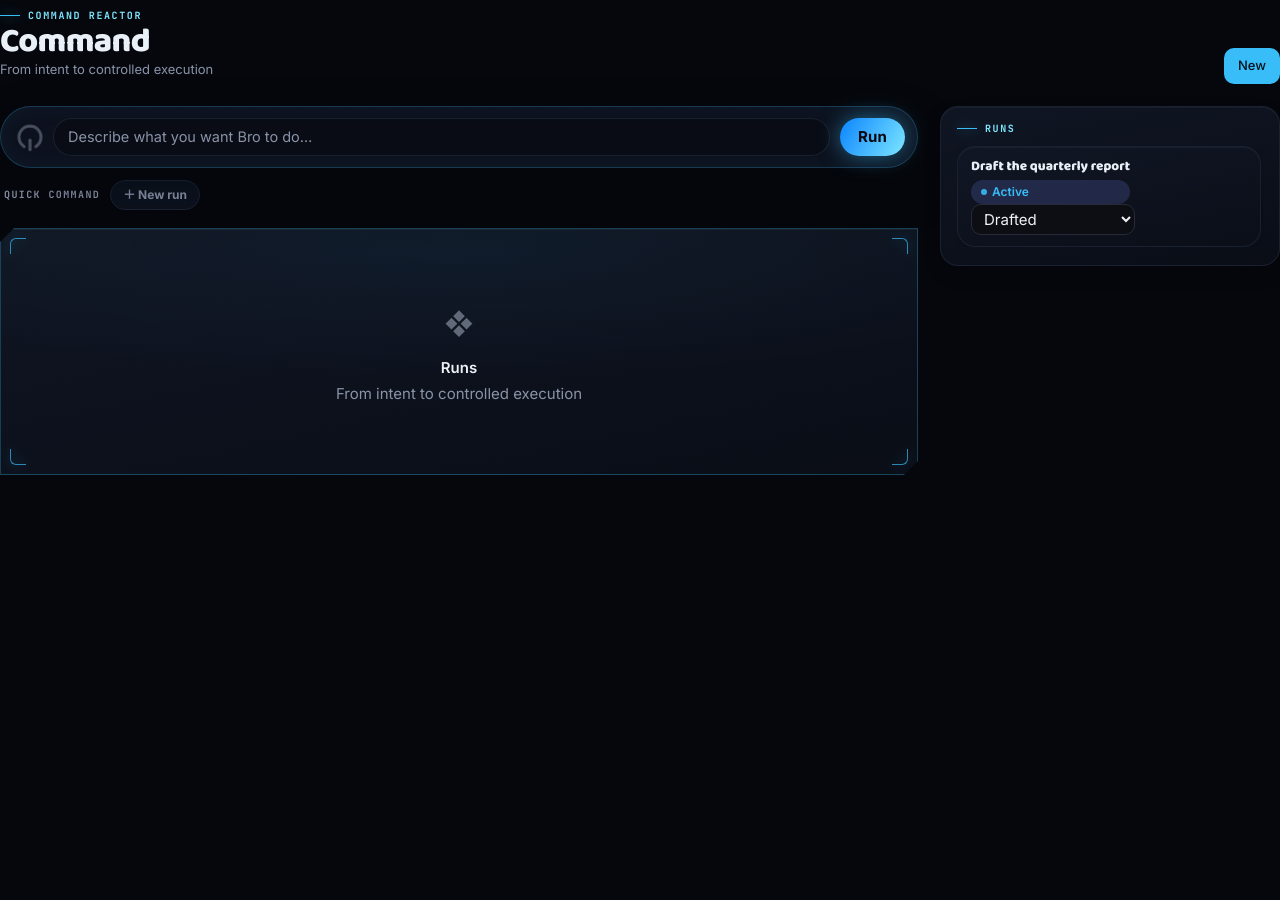
Scenario: Command — real run ledger + step chain (never fabricated) › selecting a run loads and shows its REAL step chain from list_run_steps
Click the button "Draft the quarterly report Active" at (1051, 181), box [971,158,1130,204]
(page scrolled)
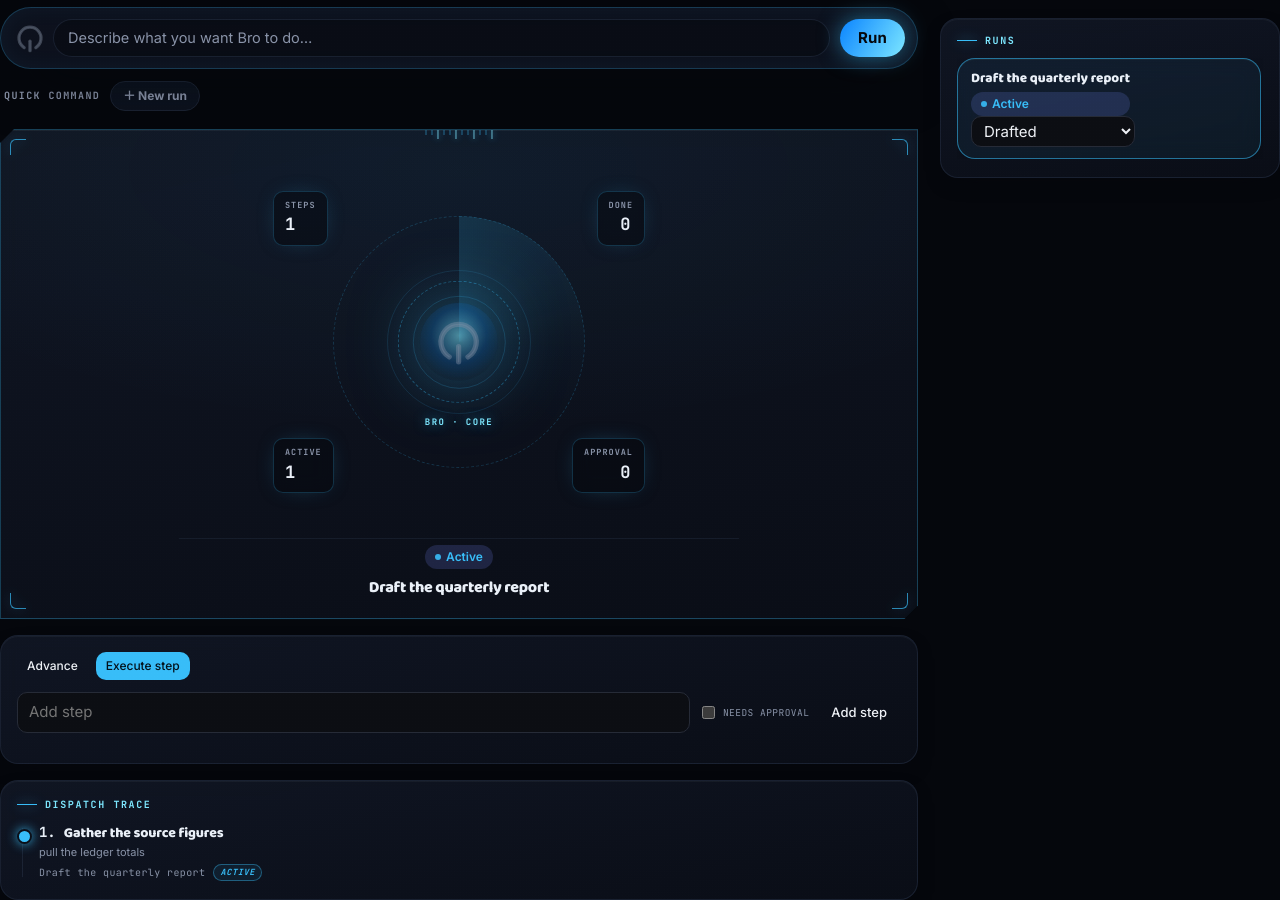
Result: the text "Gather the source figures" is shown at [64,822,224,844]
